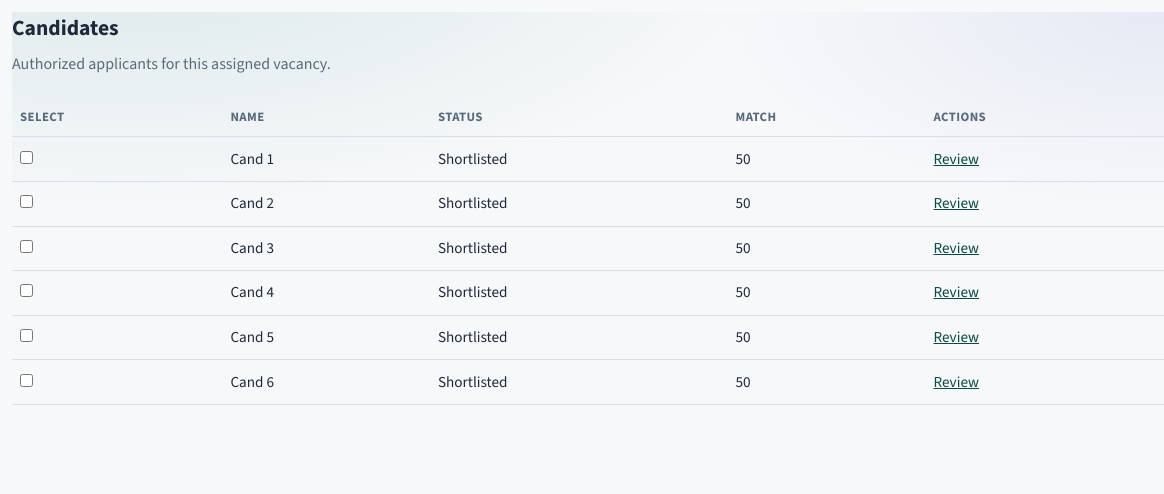
it: Comparison selection limit › limits selection to 5
The width and height of the screenshot is (1164, 494).
Check: the text "Cand 1" is shown, box [222,137,430,182]
Click the checkbox named "Select Cand 1" at [26, 157], box [20,151,33,164]
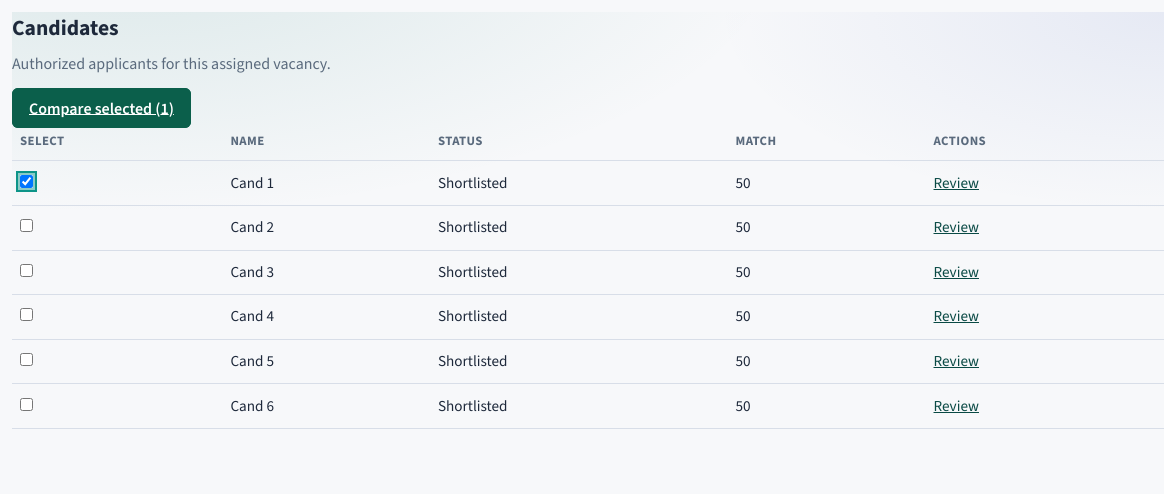
Click the checkbox named "Select Cand 2" at [26, 226], box [20,219,33,232]
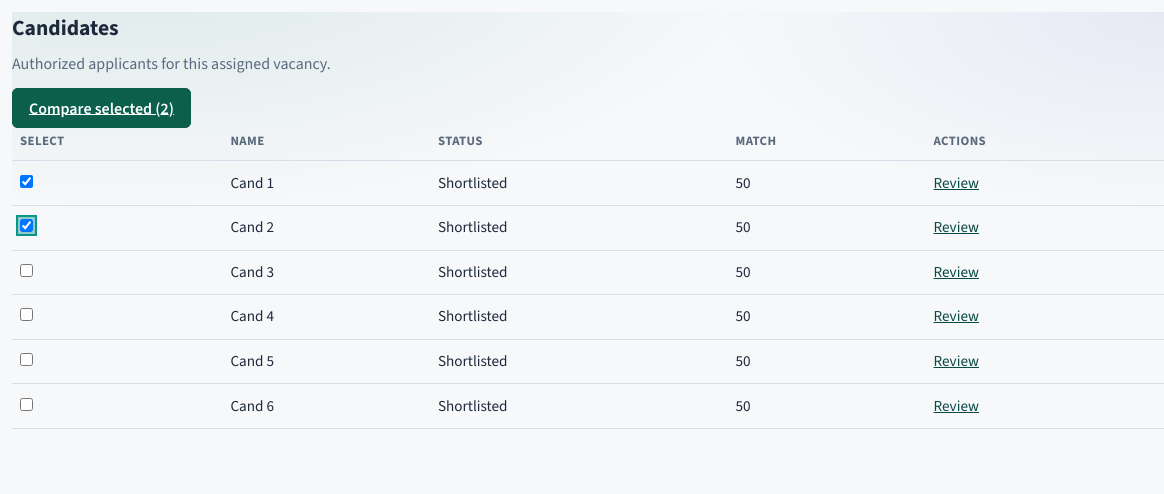
Click the checkbox named "Select Cand 3" at [26, 270], box [20,264,33,277]
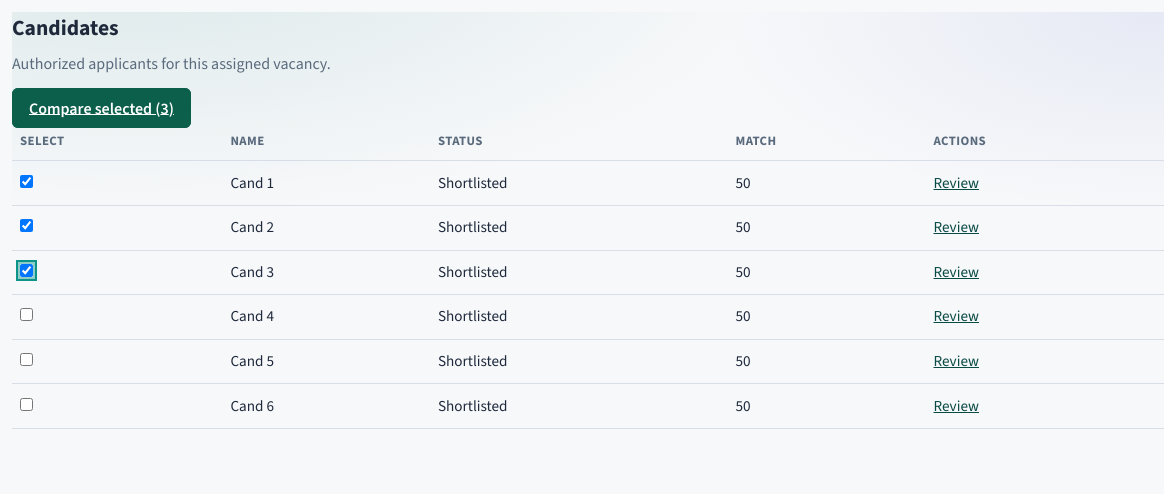
Click the checkbox named "Select Cand 4" at [26, 315], box [20,308,33,322]
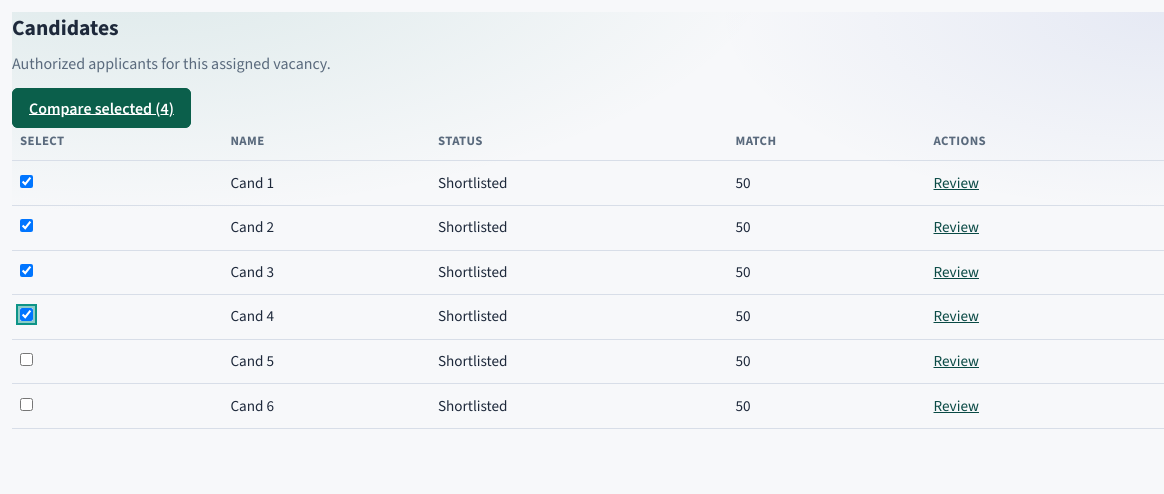
Click the checkbox named "Select Cand 5" at [26, 360], box [20,353,33,366]
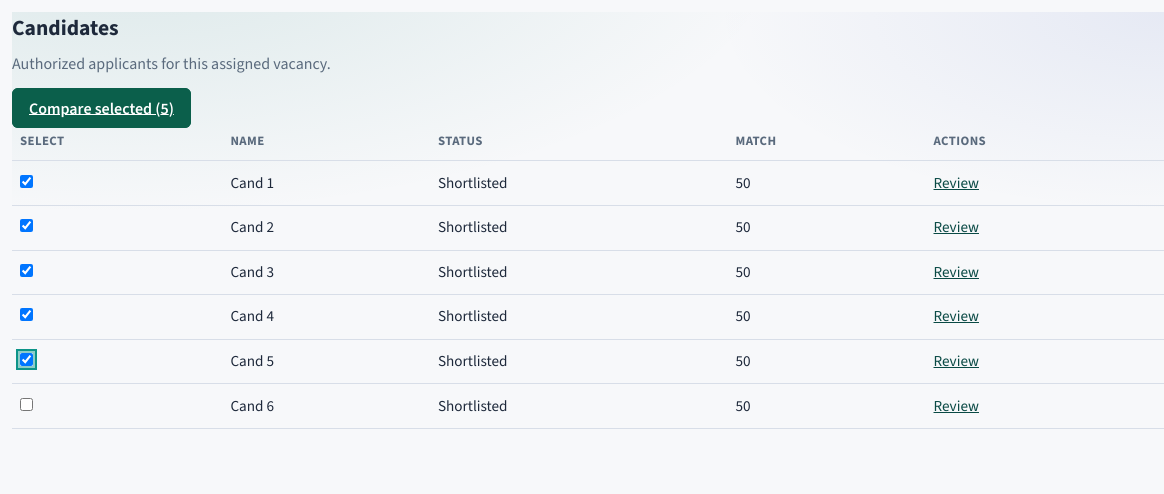
Click the checkbox named "Select Cand 6" at [26, 404], box [20,398,33,411]
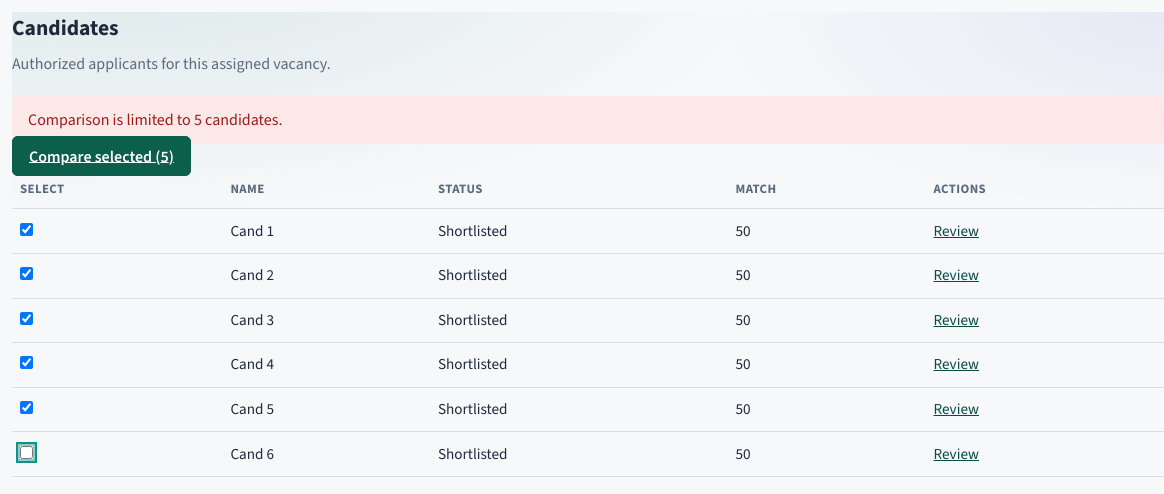
Check: the text "Comparison is limited to 5 candidates." is shown, box [12,96,1163,144]
